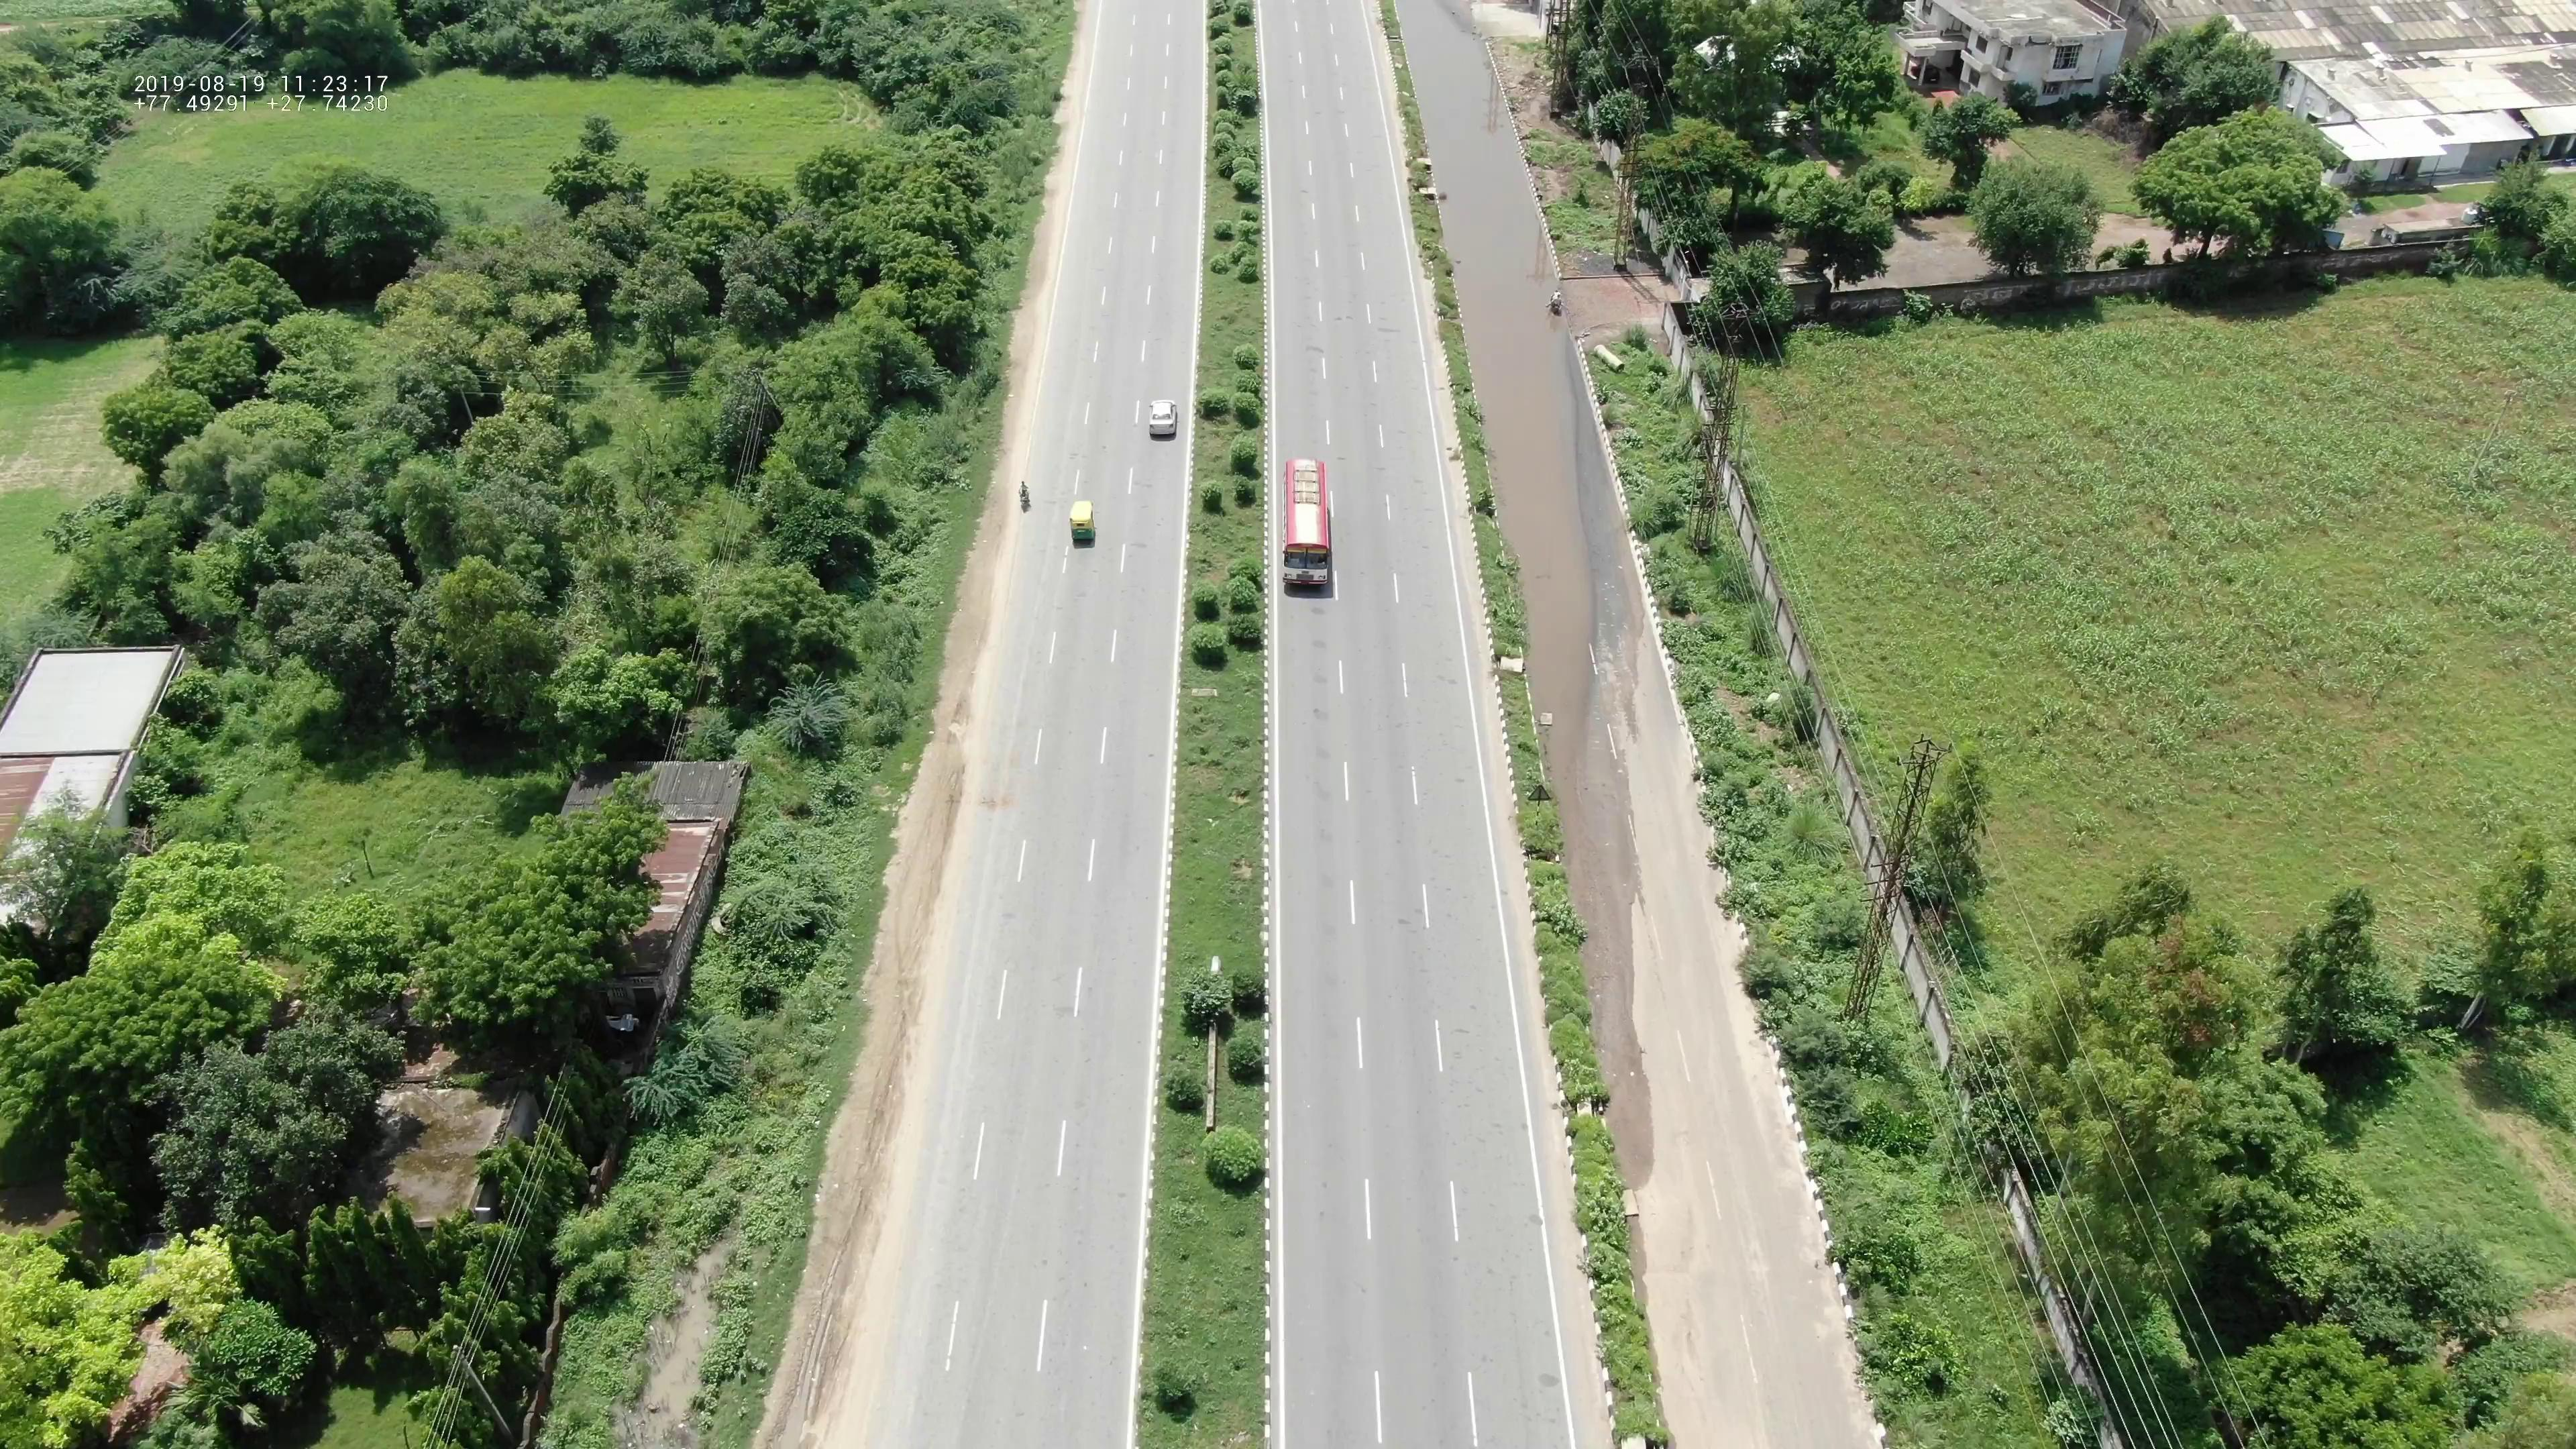Waterlogging: (1414, 25, 1596, 709)
